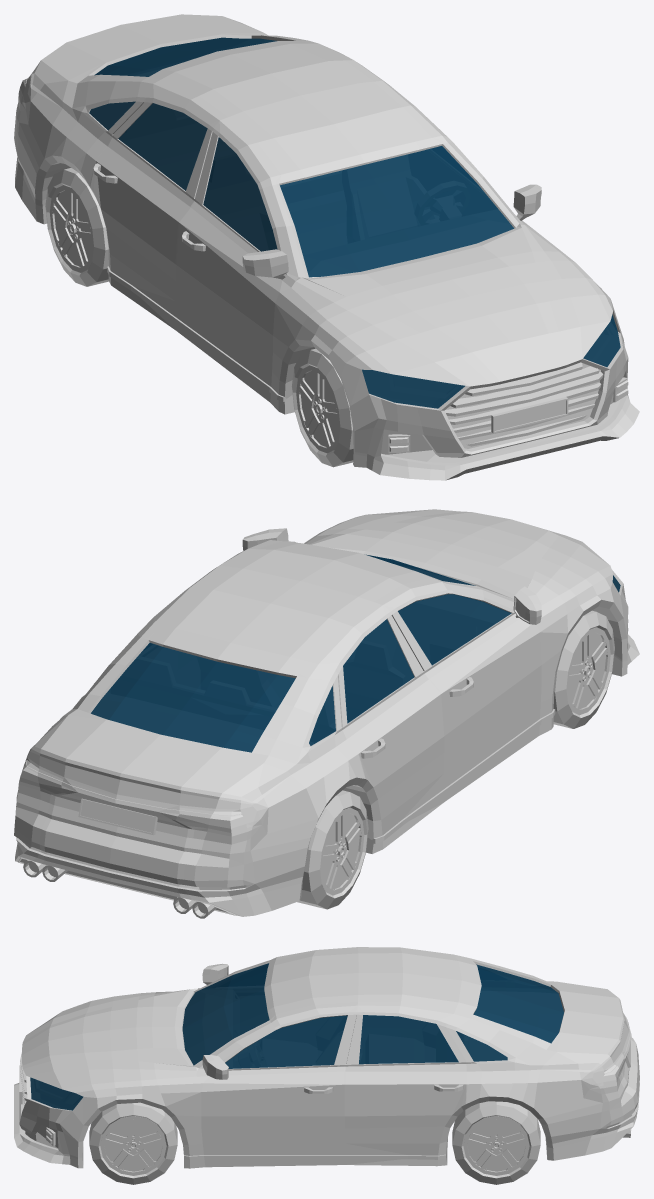
File: sedan.fbx
3 renders of one model, top to bottom at view 1: azimuth 30°, elevation 25°; view 2: azimuth 150°, elevation 25°; view 3: azimuth 270°, elevation 25°, orthographic. The views are drawn at different scales.
Parts seen in each view (by area): view 1: sedan, sedan_glass, sedan_wheel.003, sedan_wheel.002; view 2: sedan, sedan_glass, sedan_wheel.003, sedan_wheel.002; view 3: sedan, sedan_glass, sedan_wheel.001, sedan_wheel.
Boxes of the visible parts, x1,y1,x2,y2 form: sedan: (14,14,639,480); sedan_glass: (89,37,620,408); sedan_wheel.003: (45,168,108,286); sedan_wheel.002: (291,348,353,467); sedan: (14,509,639,918); sedan_glass: (91,554,620,752); sedan_wheel.003: (297,790,368,909); sedan_wheel.002: (553,610,614,728); sedan: (14,947,639,1168); sedan_glass: (30,963,563,1110); sedan_wheel.001: (452,1101,540,1184); sedan_wheel: (89,1102,177,1184).
Bounding box in the file's own units: 314 × 226 × 777.
